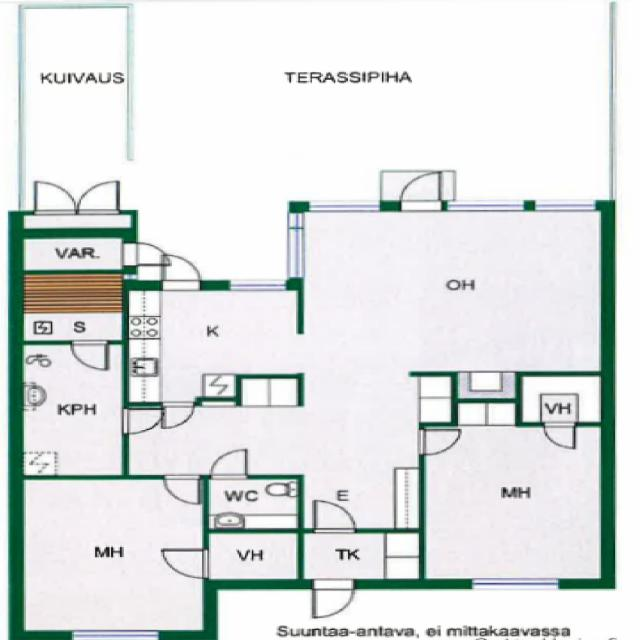door: (314, 580, 356, 618), (402, 175, 441, 211), (36, 183, 77, 215), (163, 255, 200, 290), (77, 183, 117, 215), (164, 551, 209, 579), (316, 502, 355, 534), (123, 243, 169, 266), (420, 430, 462, 455), (164, 476, 200, 505), (72, 342, 108, 371), (212, 452, 246, 480), (124, 410, 162, 434), (162, 403, 195, 429), (546, 423, 576, 448)
